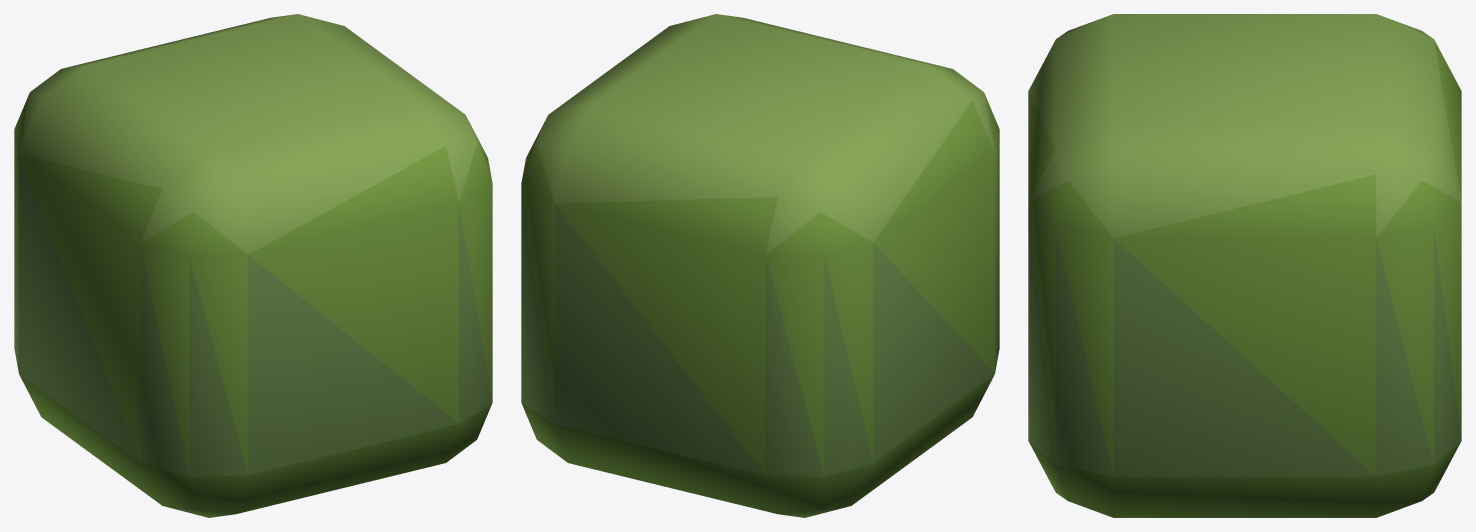
The model's file is itch_kaykit_forest_bush_2_b_color1.glb.
3 views of the same model, side by side, from view 1: azimuth 30°, elevation 25°; view 2: azimuth 150°, elevation 25°; view 3: azimuth 270°, elevation 25° (orthographic). The views are drawn at different scales.
Visible parts, largest first — view 1: Bush_2_B_Color1; view 2: Bush_2_B_Color1; view 3: Bush_2_B_Color1.
Boxes of the visible parts, x1,y1,x2,y2 form: Bush_2_B_Color1: (14, 14, 492, 517); Bush_2_B_Color1: (521, 14, 999, 517); Bush_2_B_Color1: (1028, 14, 1461, 517).
Size of the model in its own units: 0.96 by 0.96 by 0.96.
